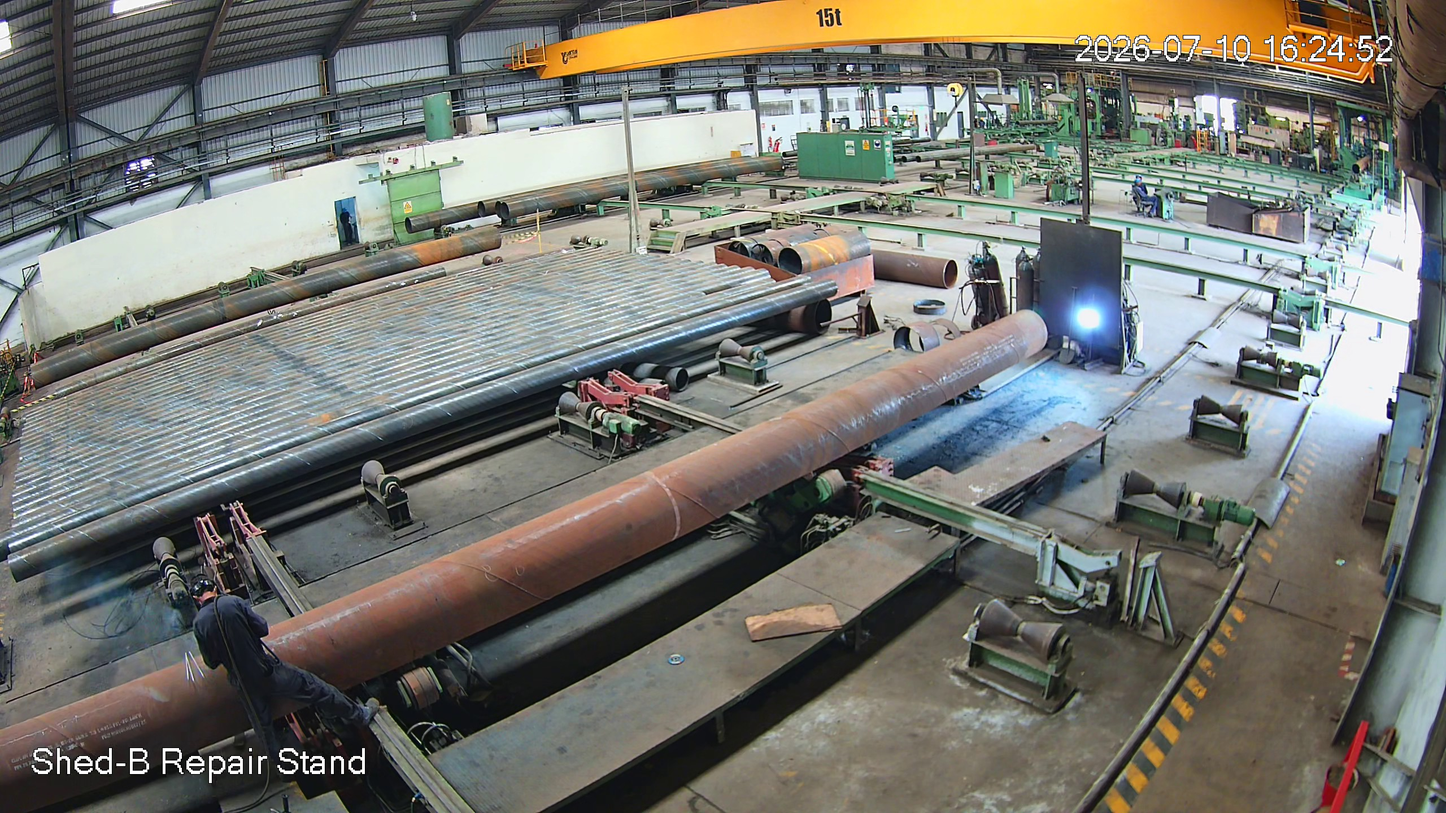Person: (188, 574, 386, 799)
